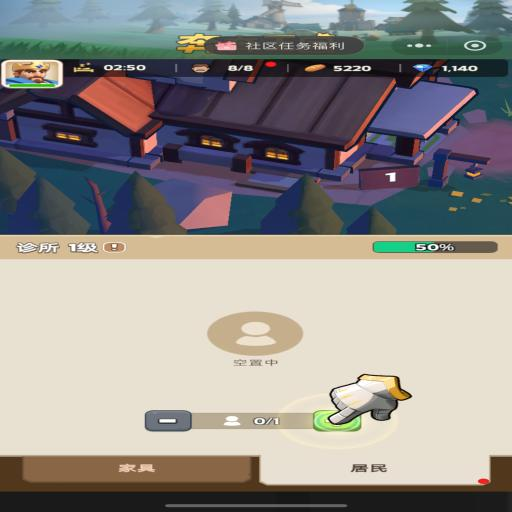newcomer_hand: (322, 374, 410, 424)
